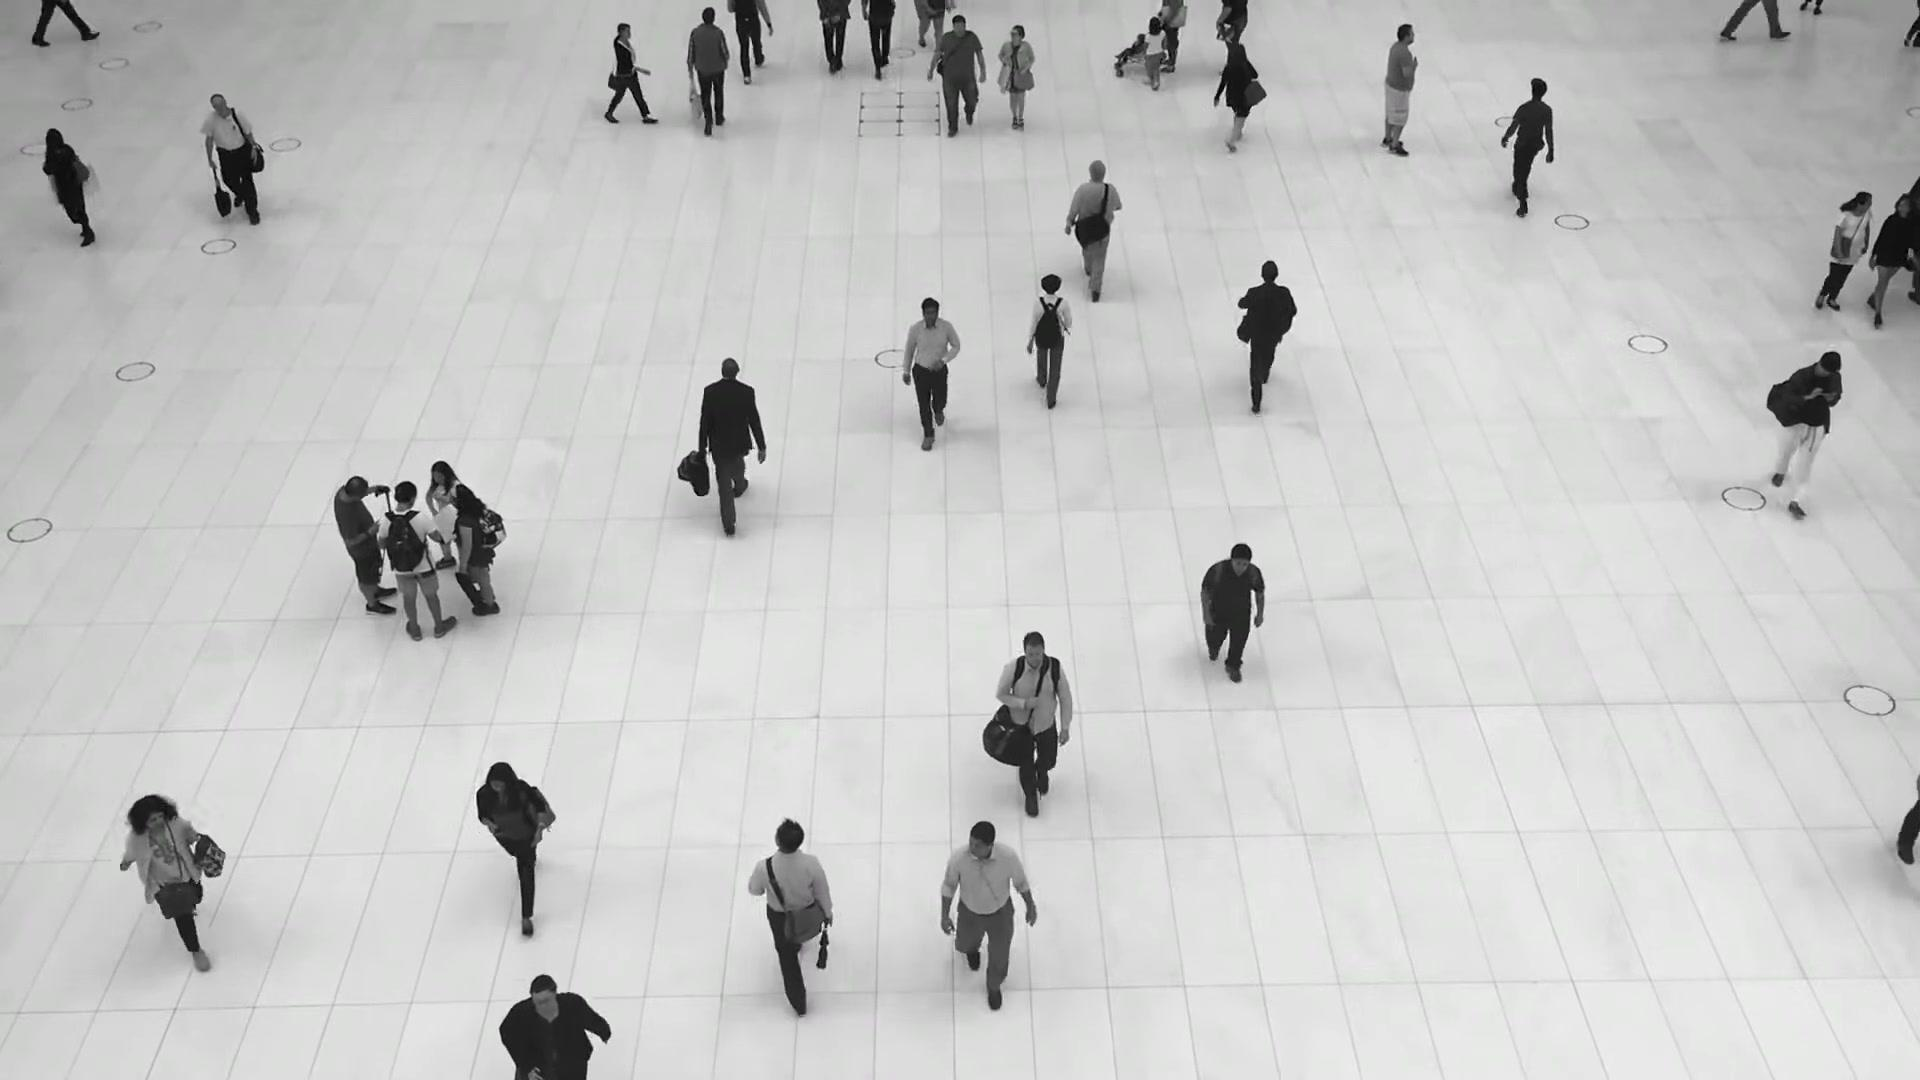person: (936, 820, 1033, 1022), (120, 794, 218, 971), (995, 635, 1075, 837), (749, 813, 832, 995), (377, 479, 459, 640), (1768, 348, 1845, 509), (474, 758, 550, 919), (696, 354, 767, 521), (501, 973, 611, 1079), (1191, 545, 1266, 696), (901, 297, 962, 457), (334, 470, 400, 614), (1235, 255, 1299, 401), (1064, 155, 1123, 291), (199, 93, 260, 223), (1863, 193, 1918, 326), (1817, 192, 1873, 320), (932, 15, 988, 142), (449, 483, 501, 615), (40, 127, 96, 248), (1026, 273, 1074, 412), (1504, 75, 1554, 208), (685, 6, 731, 134), (1380, 23, 1419, 157), (996, 26, 1036, 137), (425, 460, 460, 580), (1217, 43, 1258, 148), (609, 20, 649, 125), (1143, 15, 1165, 90)
